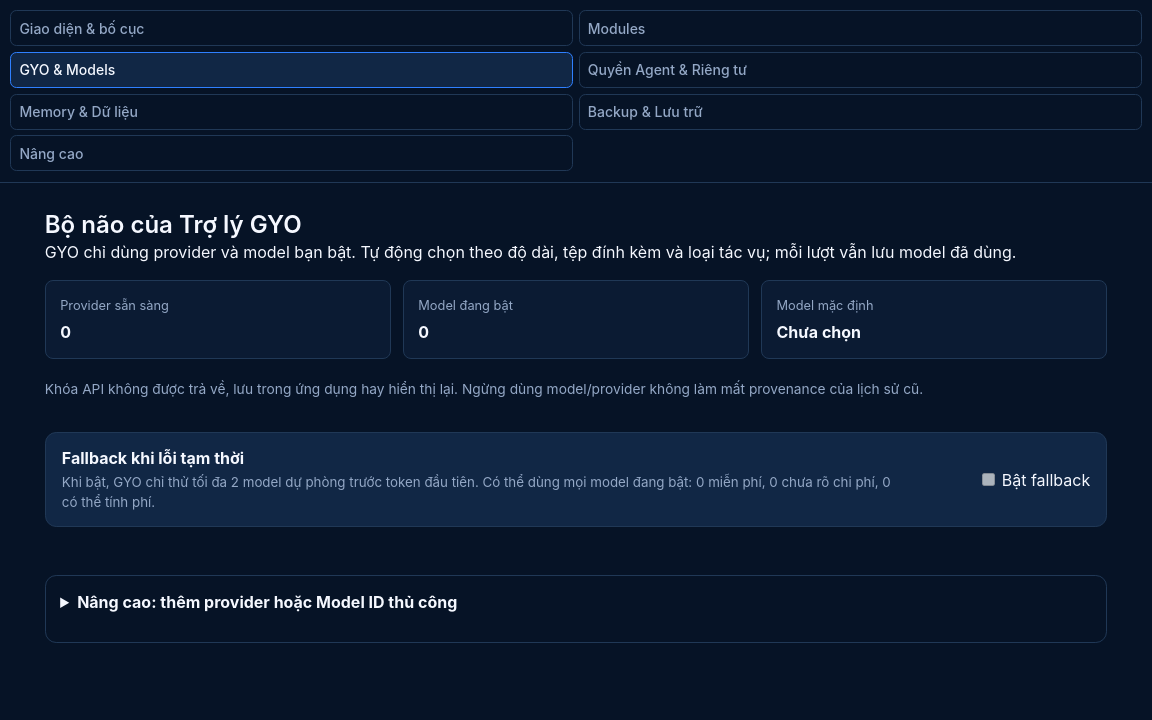
Test: SettingsPanel GYO provider controls › keeps privacy read-only until the Data Egress gate is implemented
Click the button "Quyền Agent & Riêng tư" at (667, 70), box [579,52,1142,88]
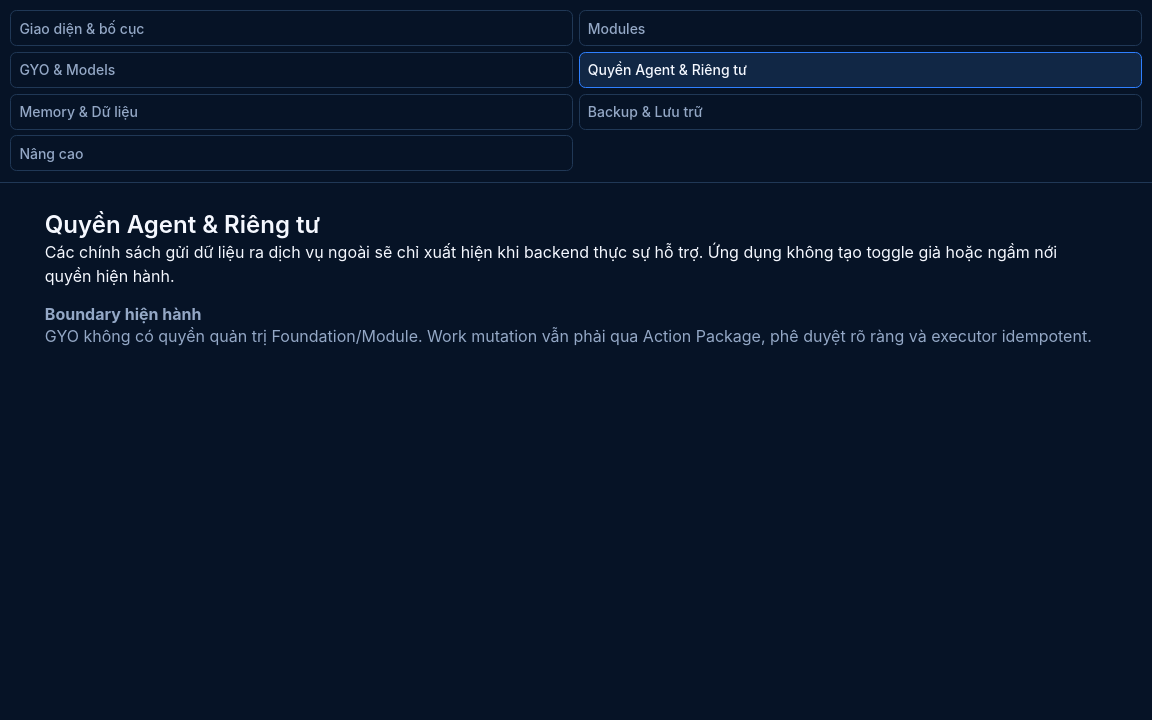
expect the text "không tạo toggle giả" is shown: met, box [45,242,1057,286]
expect the text "GYO không có quyền quản trị Foundation/Module" is shown: met, box [45,326,1092,346]
